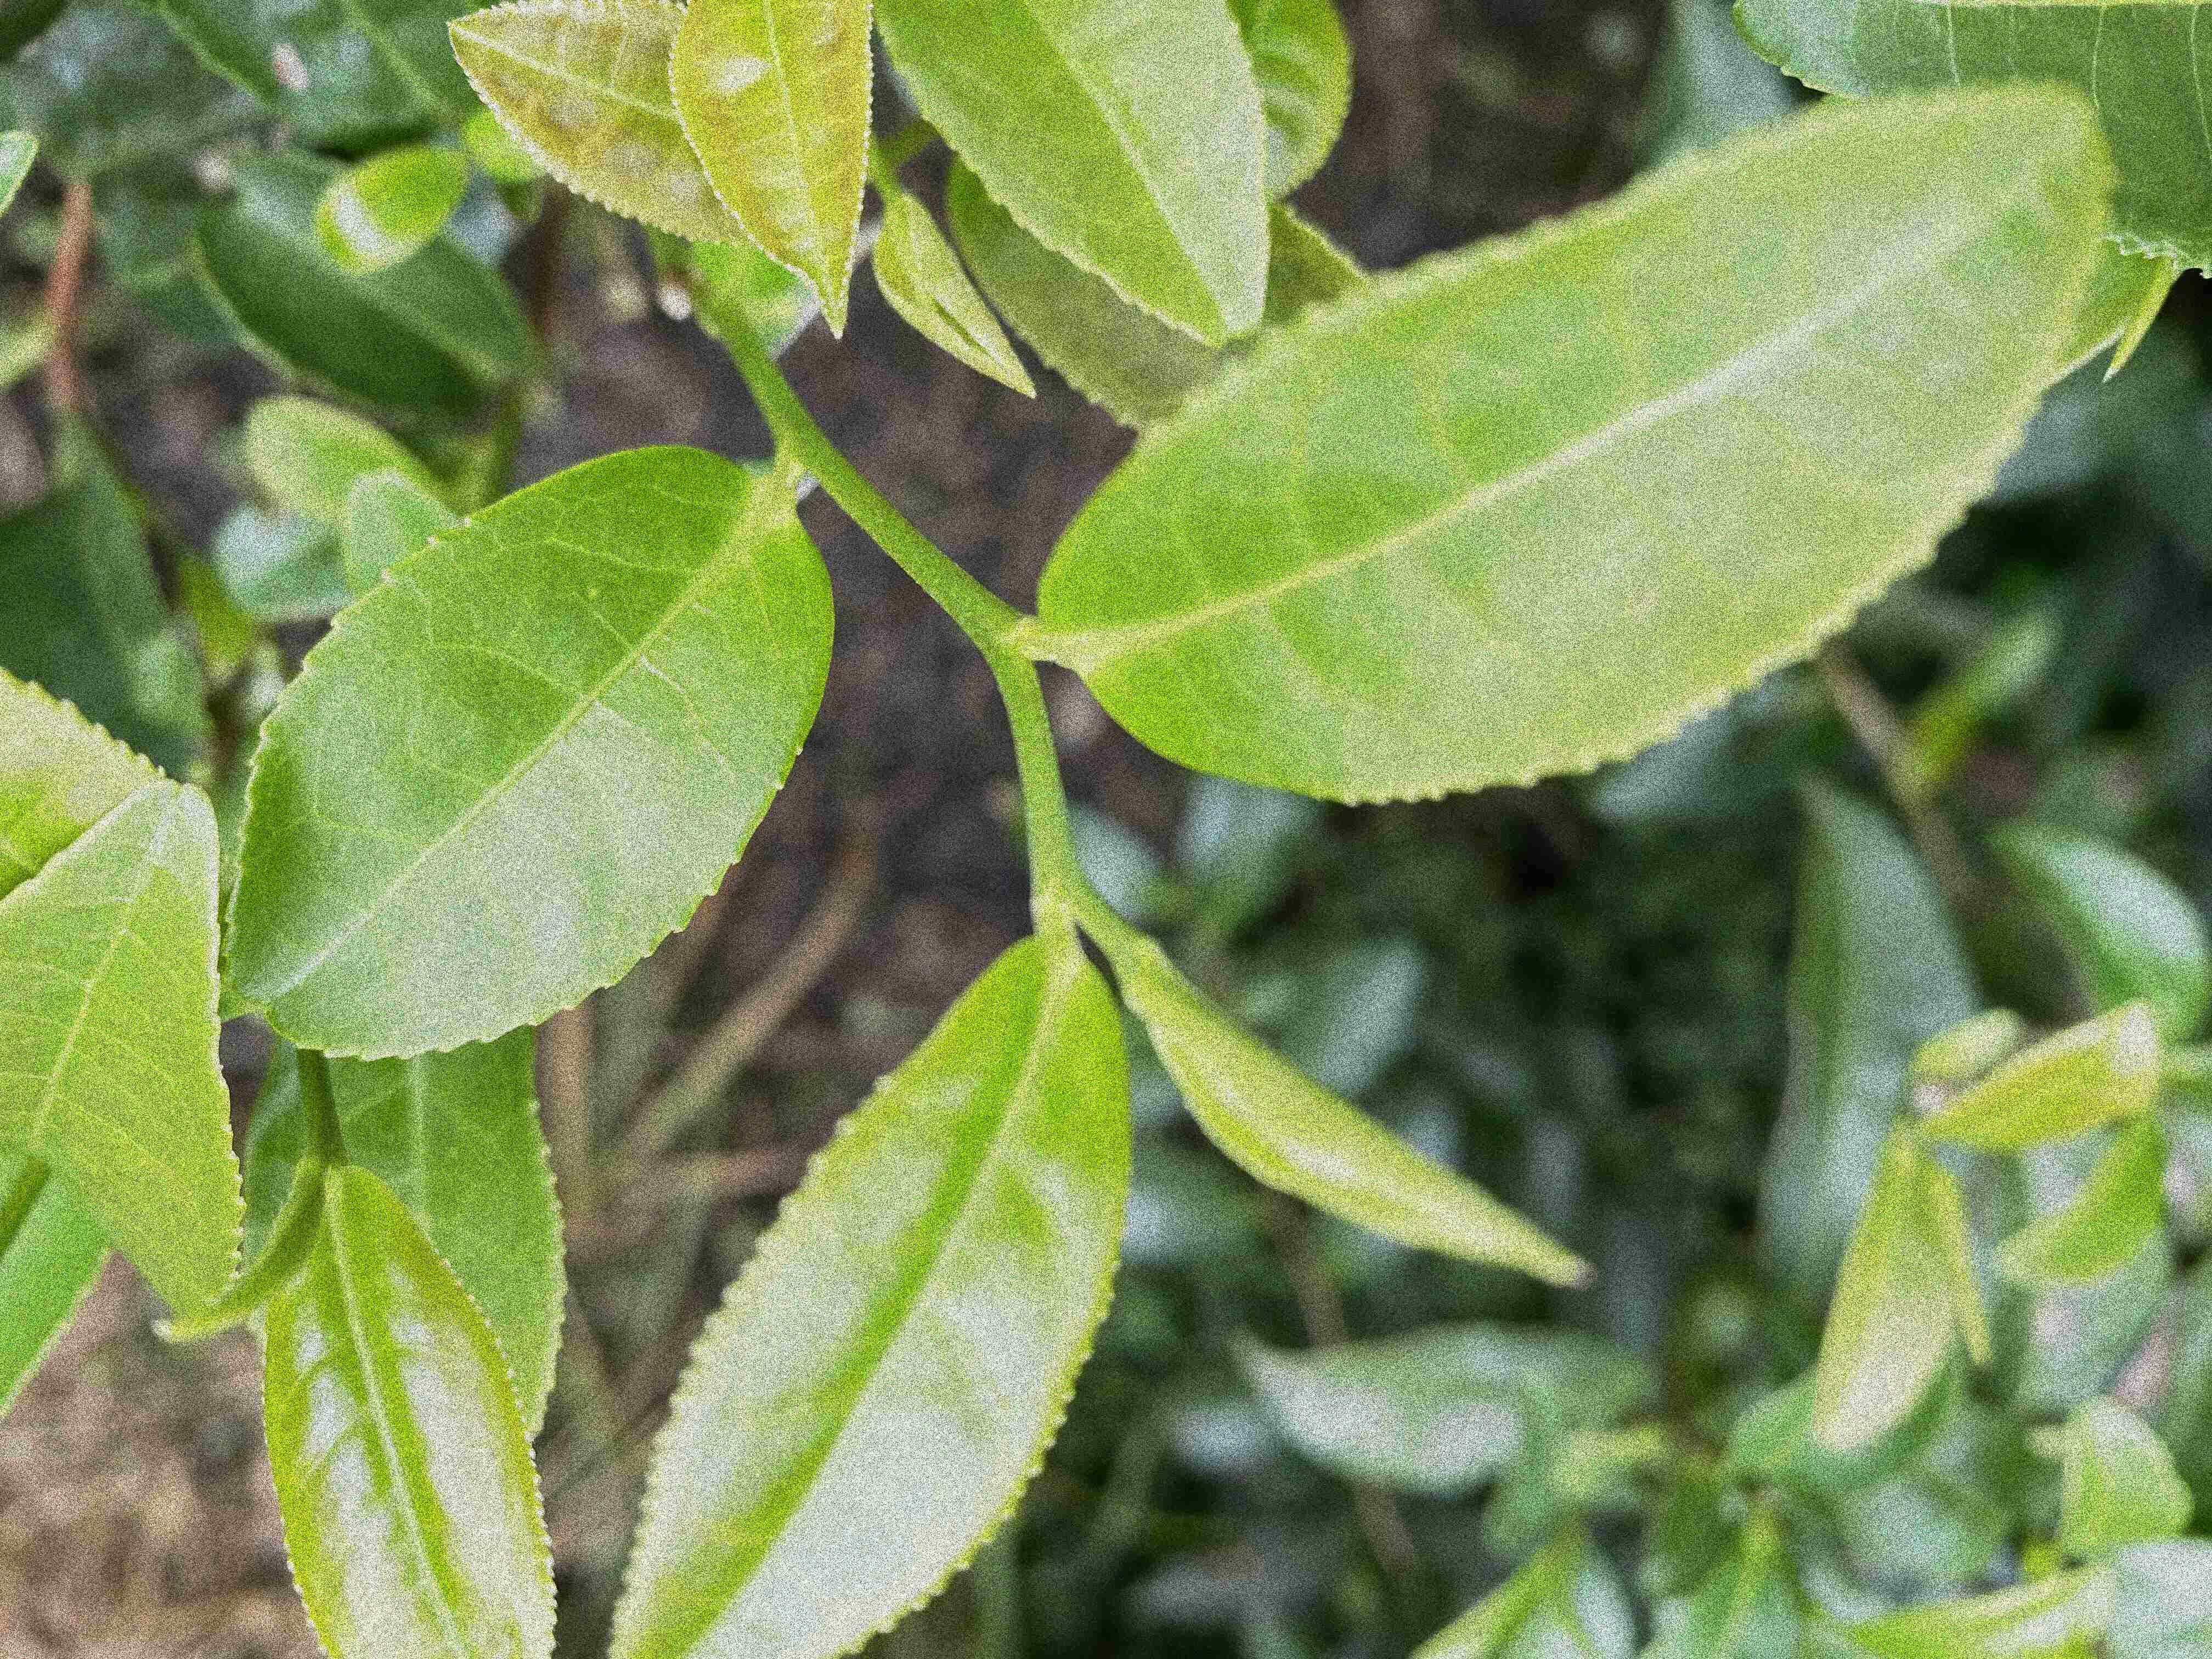healthy: (1031, 84, 2111, 810), (603, 936, 1130, 1656), (223, 443, 833, 1061), (256, 1161, 559, 1657), (876, 3, 1275, 349), (0, 775, 247, 1309)
